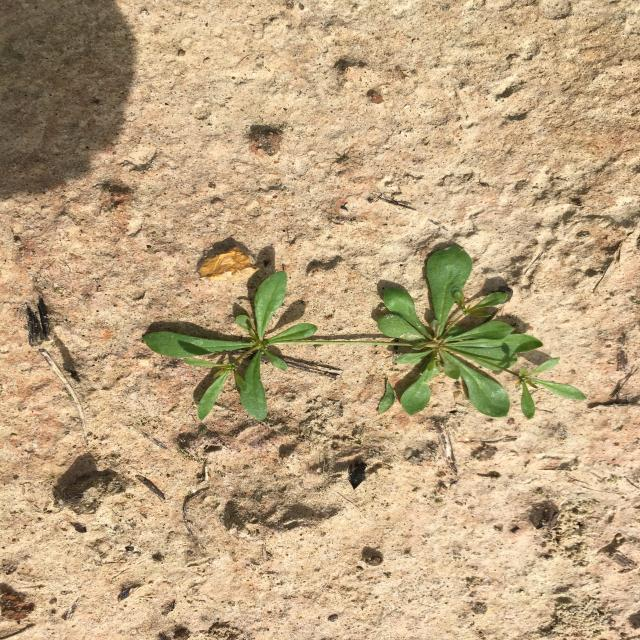Carpetweed: (143, 245, 588, 421)
